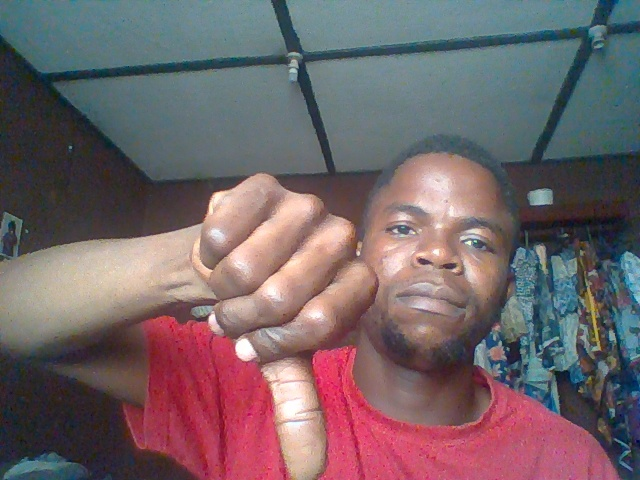Thumbdown: (176, 171, 385, 480)
